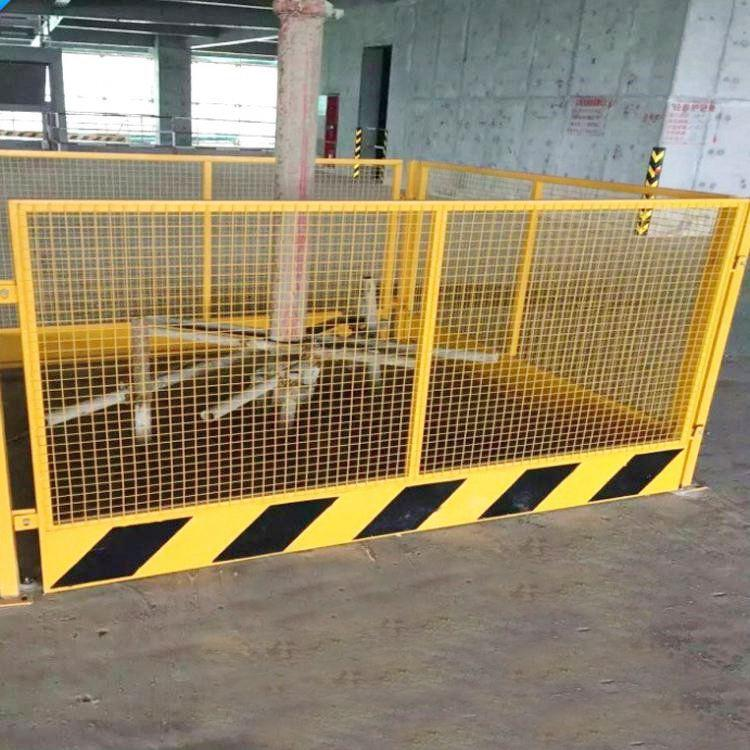sign: (9, 177, 750, 575)
